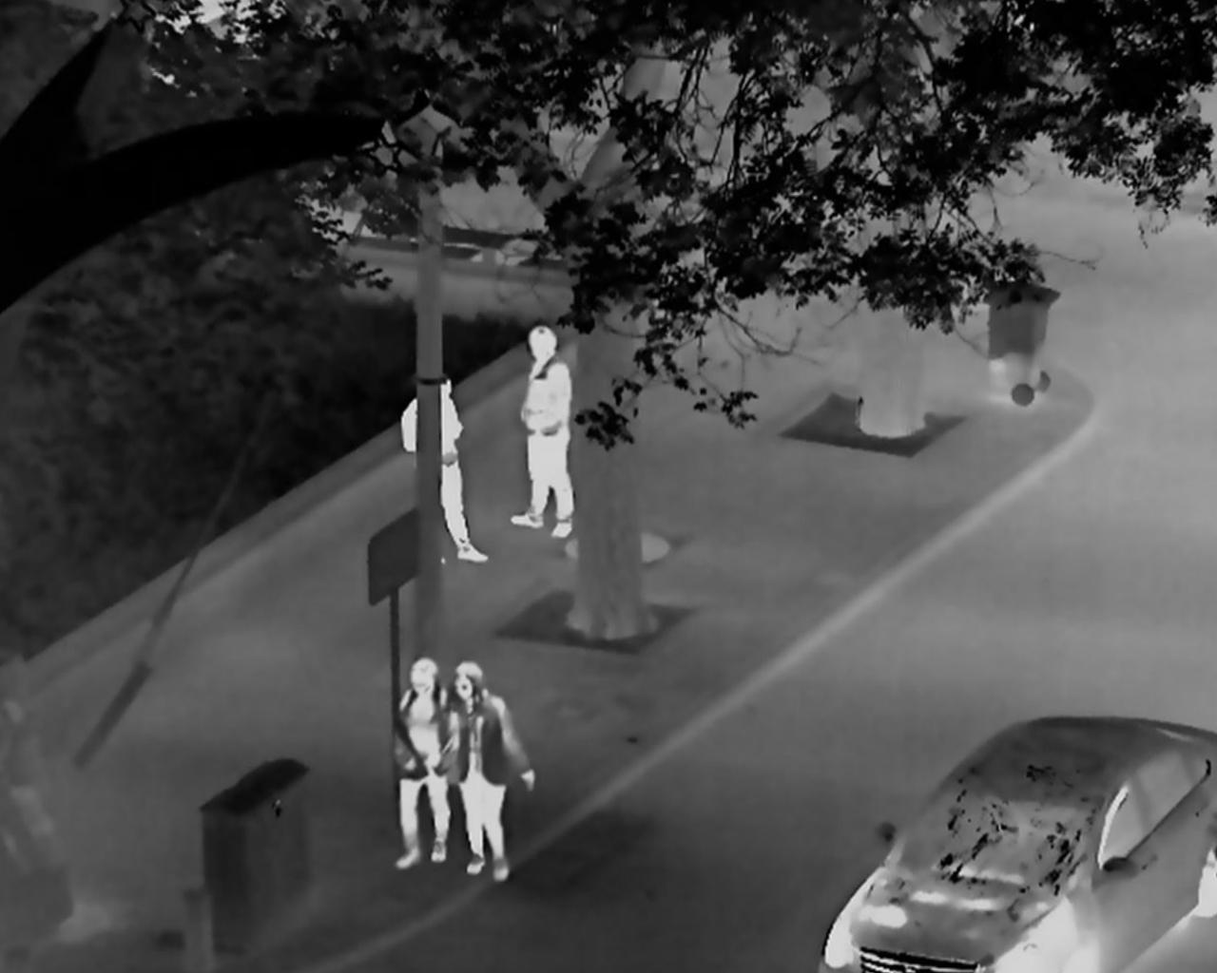person: (434, 664, 535, 881), (400, 372, 488, 564), (510, 325, 577, 538), (394, 656, 450, 869)
